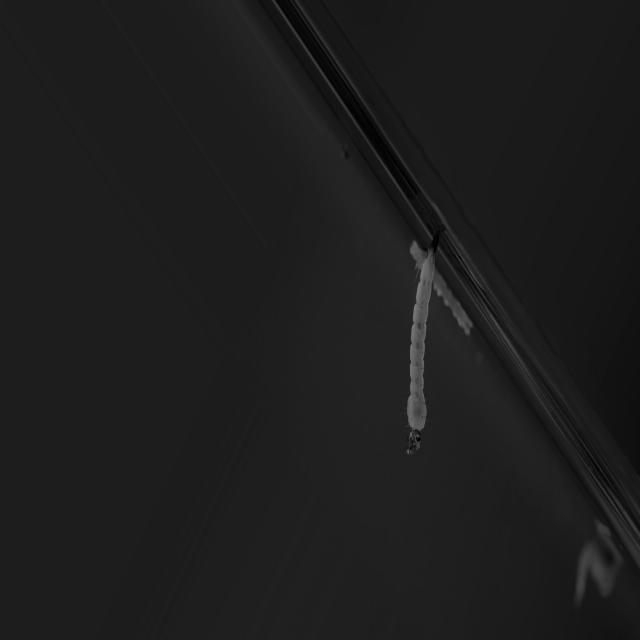larvas: (407, 232, 435, 461), (577, 535, 624, 600), (440, 277, 470, 336)
